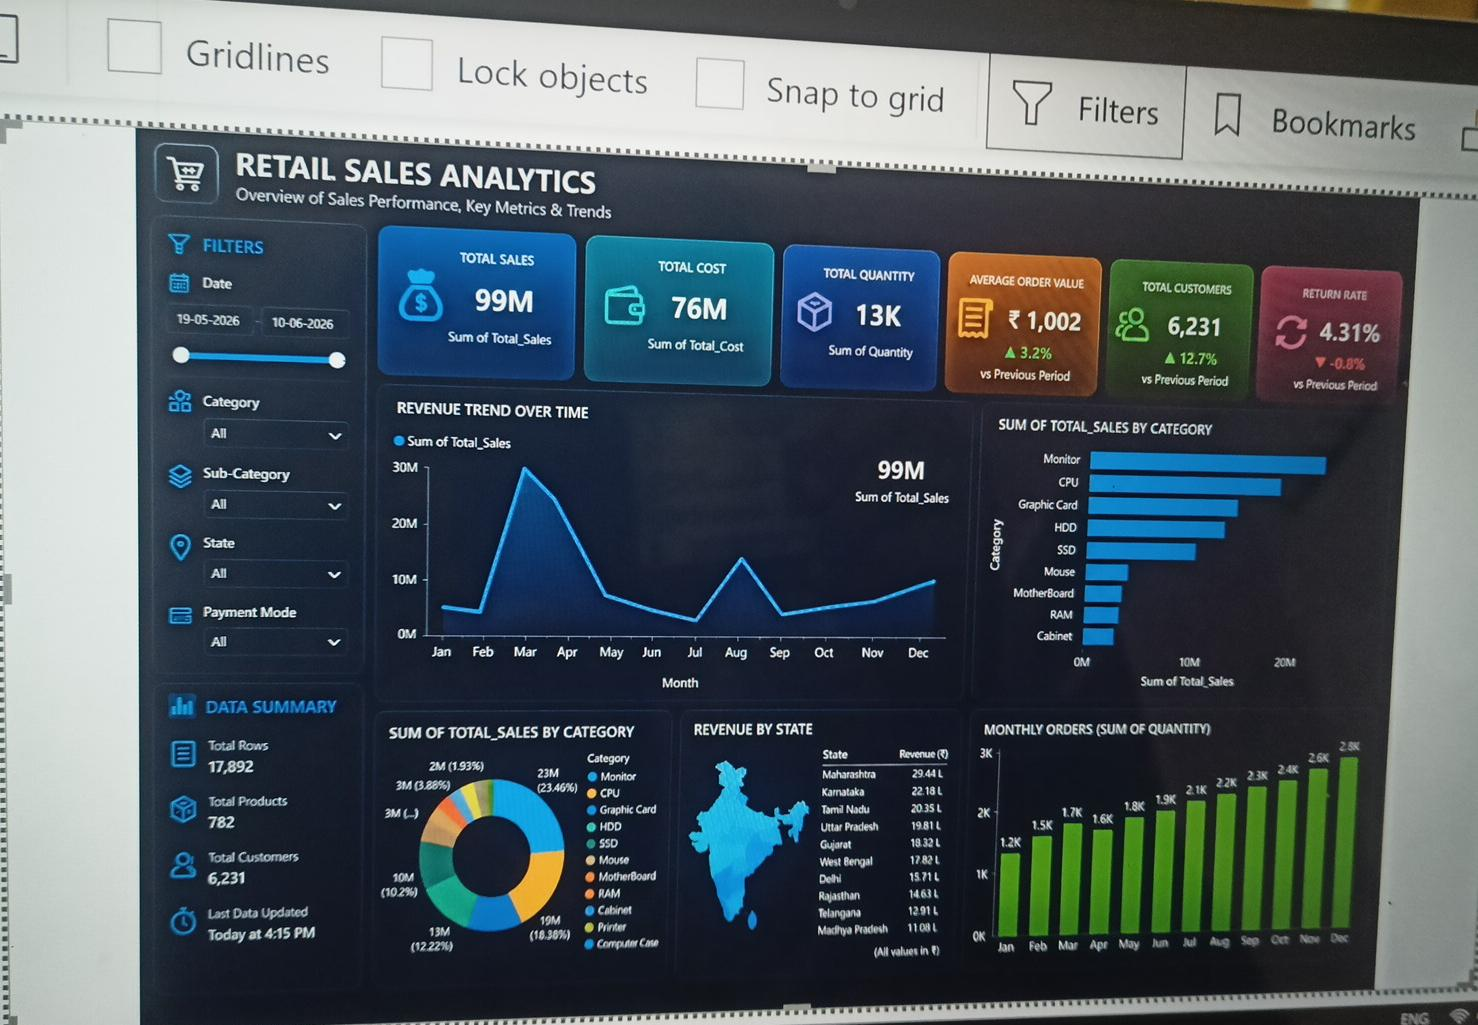

What the dashboard file says about the page in this screenshot:
{"tool":"powerbi","page":{"name":"Page 1","canvas":[1280,720],"ordinal":0},"visuals":[{"type":"image","box":[0,0,1279.9,710.8],"z":0}]}

Visuals, with their boxes on the page's 1280x720 design canvas (x1, y1, x2, y2). These are canvas units, not pixel positions in the 1478x1025 screenshot, which may show the page scaled, cropped or inside an application window:
image: [0,0,1280,711]
